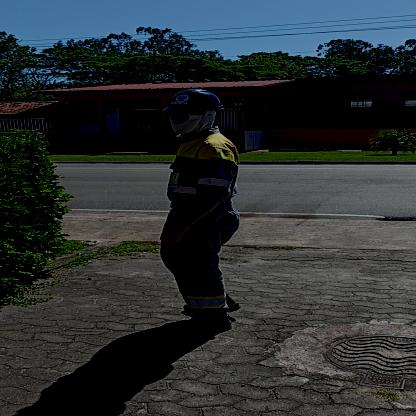Balaclava: (166, 106, 216, 134)
Capacete: (157, 86, 222, 110)
